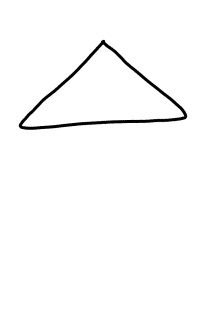Triangle: (15, 37, 191, 133)
